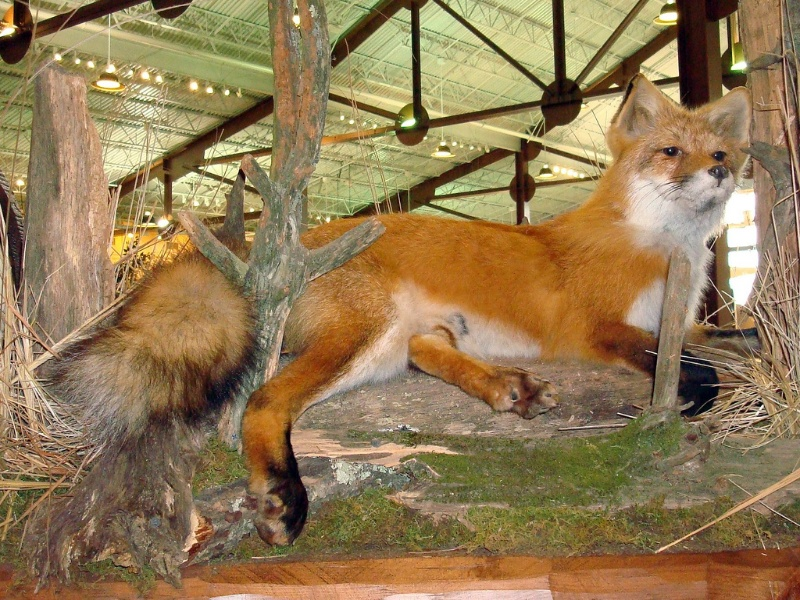fox: (39, 72, 753, 574)
